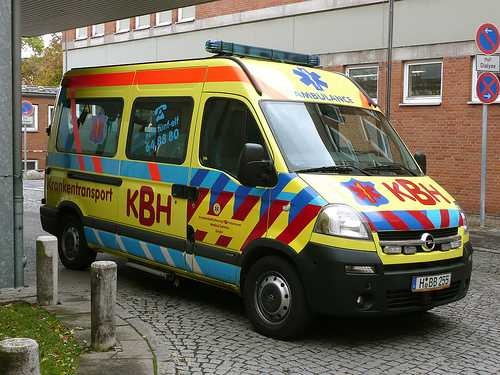Ambulance: (39, 44, 478, 329)
